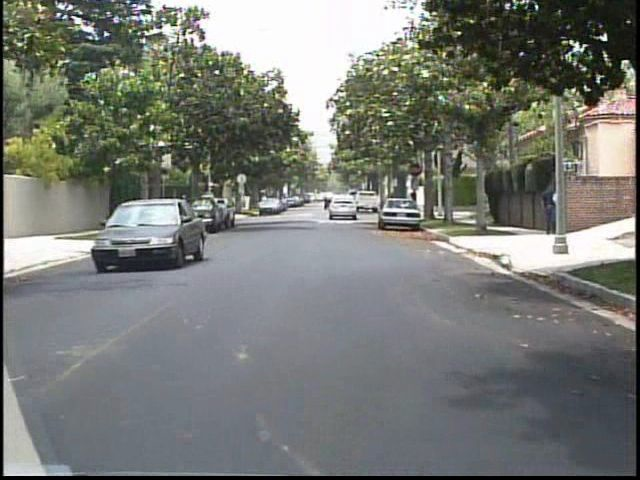person: (540, 180, 555, 237), (165, 192, 181, 231)
